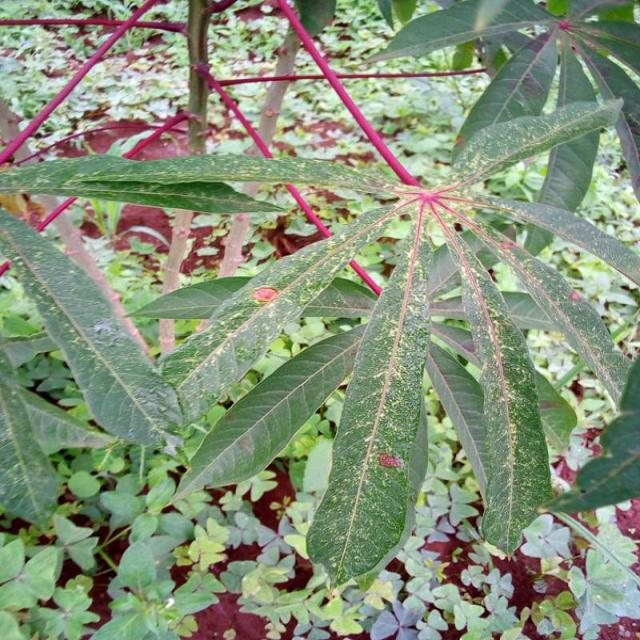cassava leaf: (304, 215, 434, 590), (0, 206, 184, 452), (456, 227, 554, 558)
